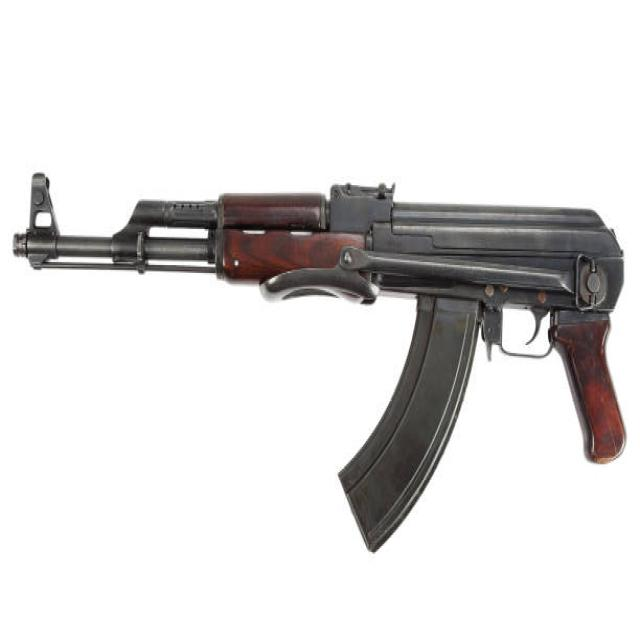rifle: (12, 169, 635, 573)
